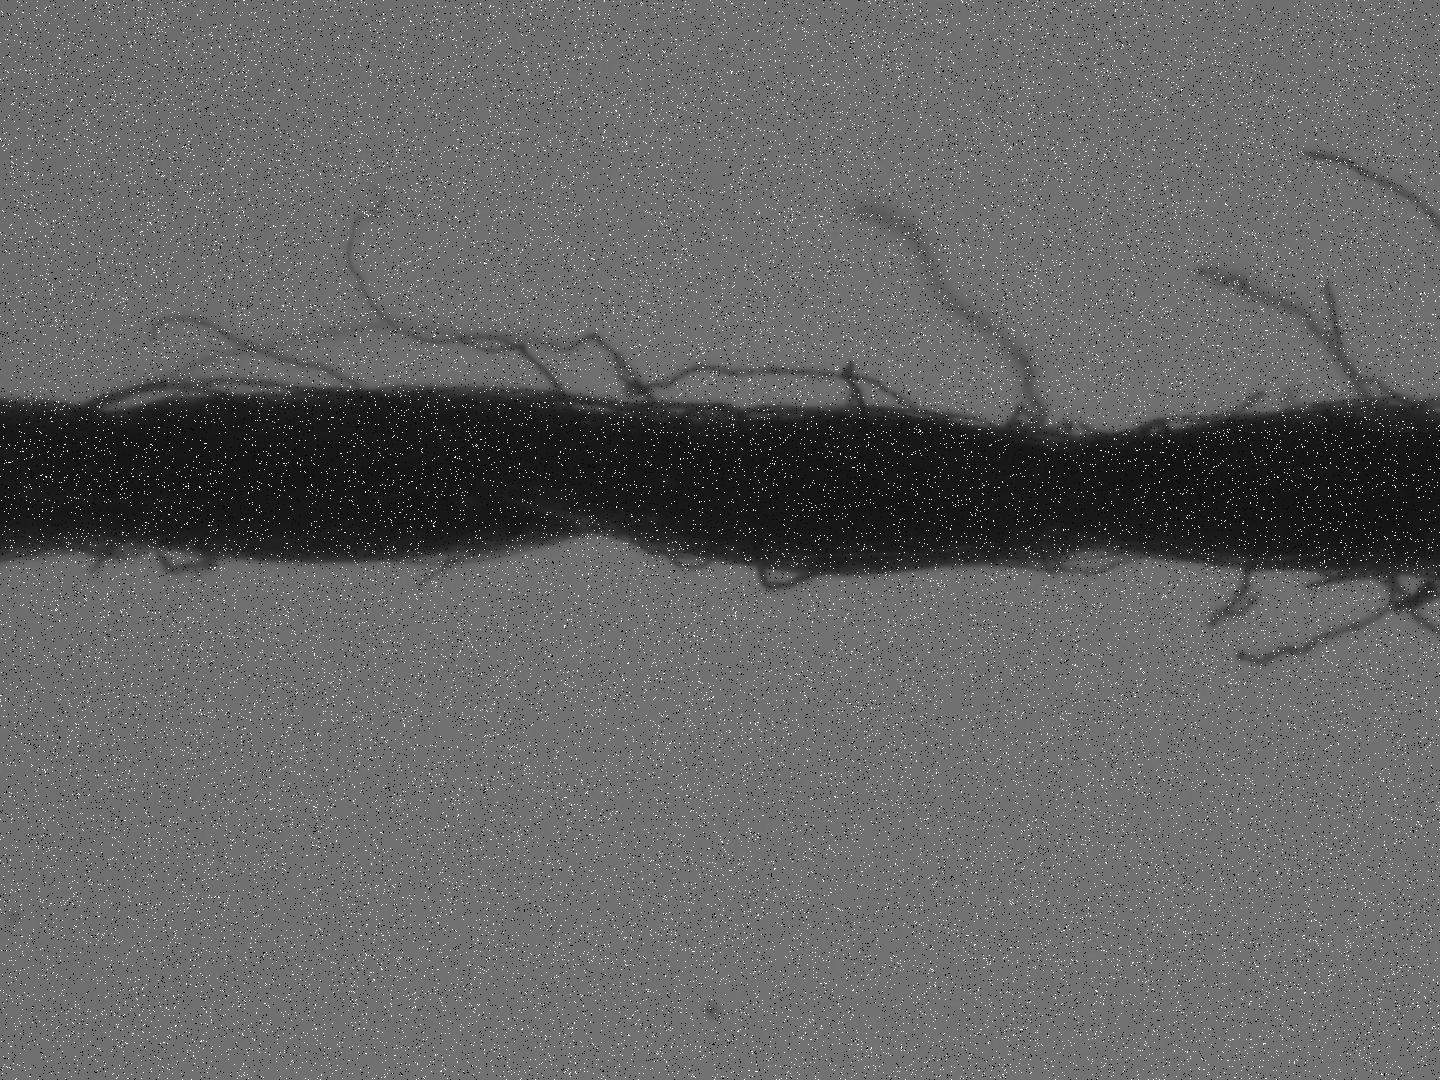loop_fiber: (78, 374, 240, 413), (994, 545, 1157, 576), (166, 374, 304, 405), (753, 550, 822, 593), (639, 541, 731, 573), (1123, 408, 1243, 431), (60, 532, 143, 564), (149, 541, 222, 576), (1008, 406, 1070, 441)
protruding_fiber: (143, 309, 367, 390), (840, 353, 872, 422)
